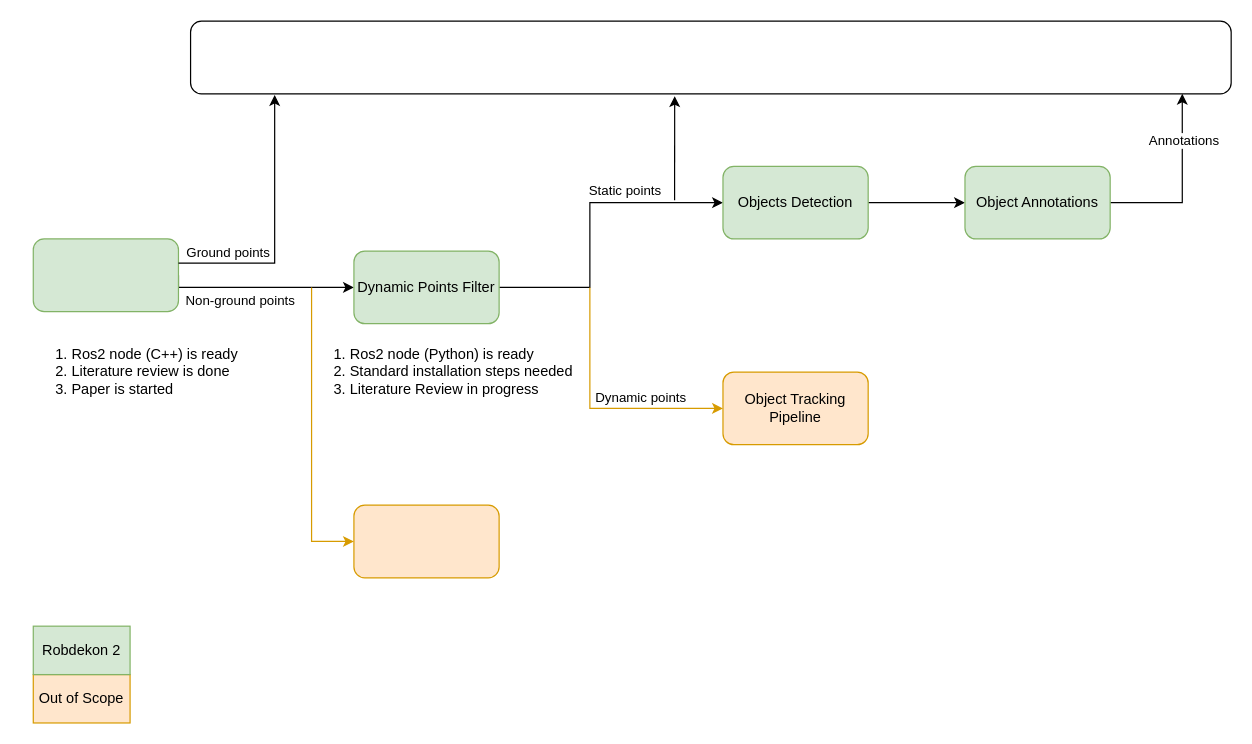
Some shapes in this 1252 by 744 pixel diagram are drawn without their labels. The shapes that lost their labels are listed below. From the top down, each one's centre as x and y in pixels, then its label:
At point (710, 57): "Map".
At point (105, 275): "Ground Segmentation".
At point (426, 541): "Safety Pipeline".
